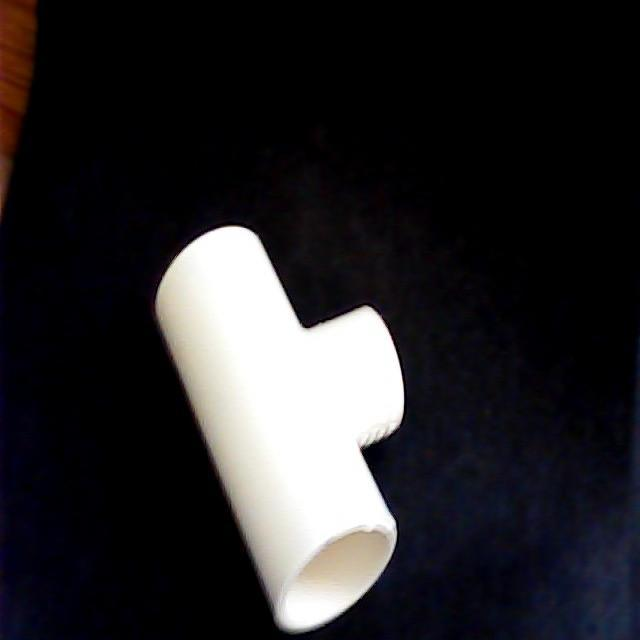T Joint: (153, 225, 406, 638)
